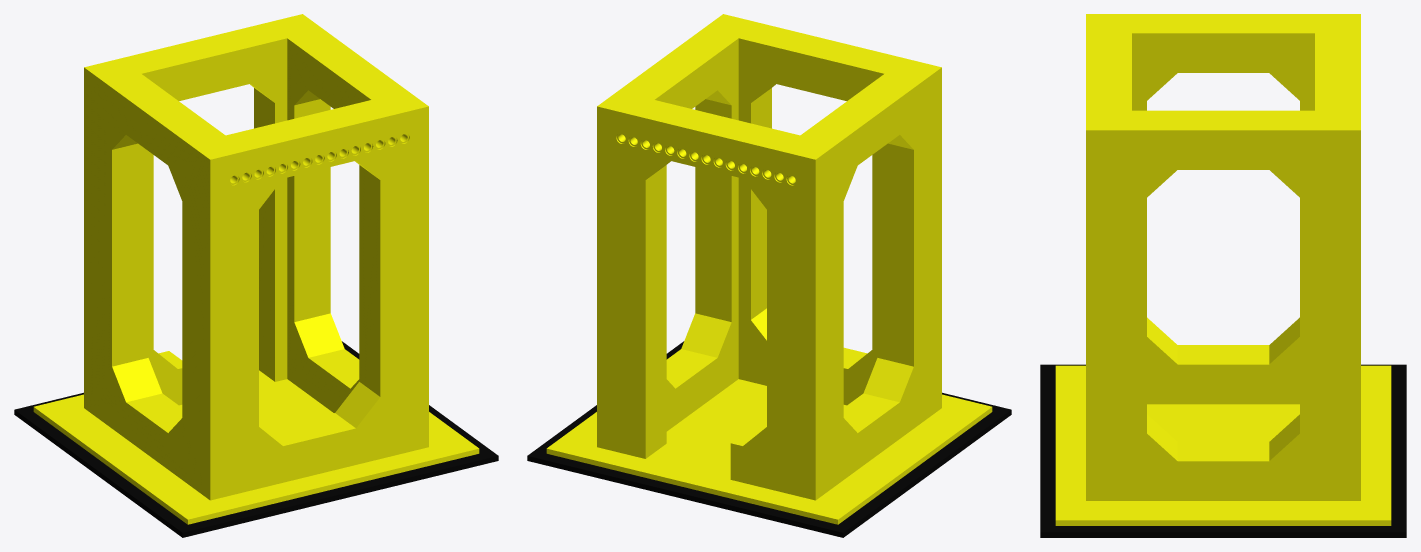
3 views of the same model, side by side, from view 1: azimuth 30°, elevation 25°; view 2: azimuth 150°, elevation 25°; view 3: azimuth 270°, elevation 25° (orthographic). The views are drawn at different scales.
Visible parts, largest first — view 1: Cut-Extrude7; view 2: Cut-Extrude7; view 3: Cut-Extrude7.
Part boxes in pixels (x1,y1,x2,y2): Cut-Extrude7: (14, 14, 498, 537); Cut-Extrude7: (527, 14, 1011, 537); Cut-Extrude7: (1040, 14, 1406, 537).
Bounding box in the file's own units: 8.19 × 8.69 × 7.56.
